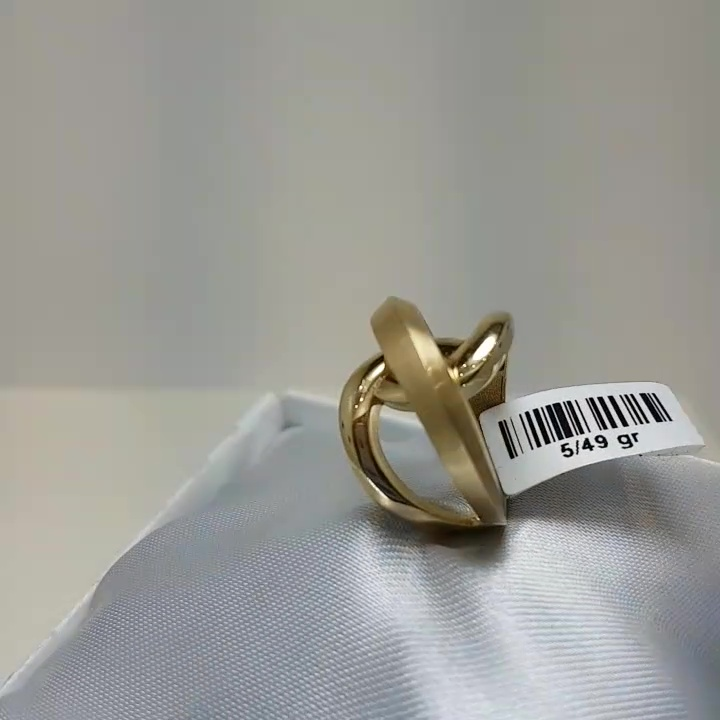Ring 3: (308, 290, 564, 554)
